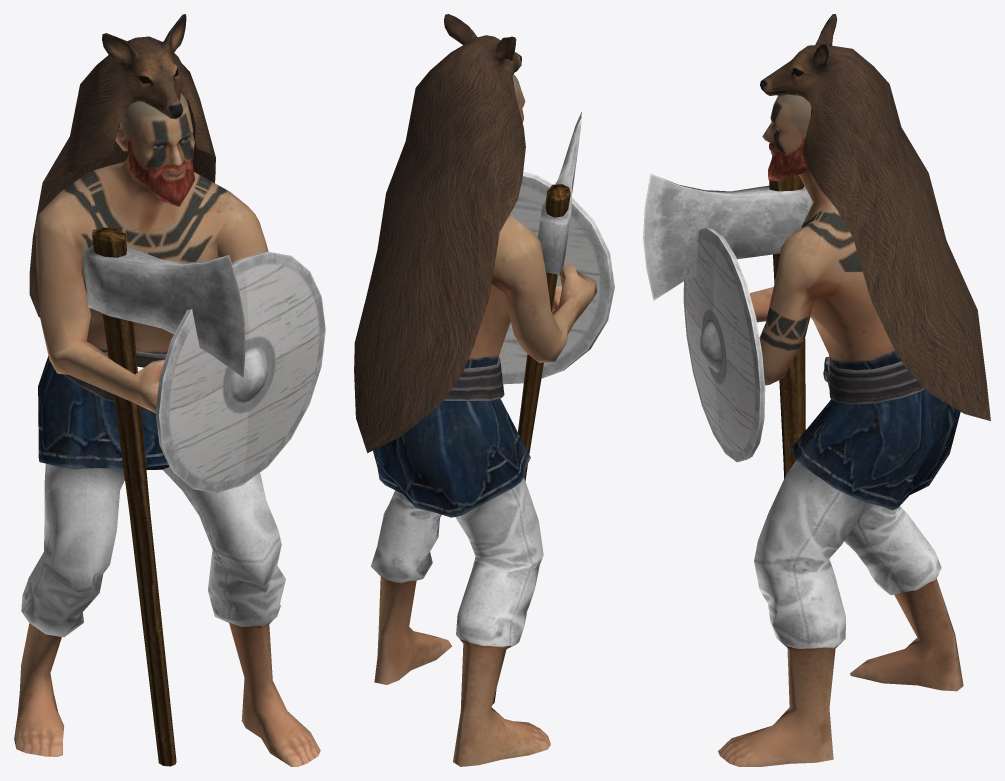
Rendered from 14-berserk.glb.
3 renders of one model, left to right at view 1: azimuth 30°, elevation 25°; view 2: azimuth 150°, elevation 25°; view 3: azimuth 270°, elevation 25°, orthographic. The views are drawn at different scales.
Size of the model in its own units: 0.7297 by 2.1 by 0.9602.
Materials: 4 (4 with a texture image).
